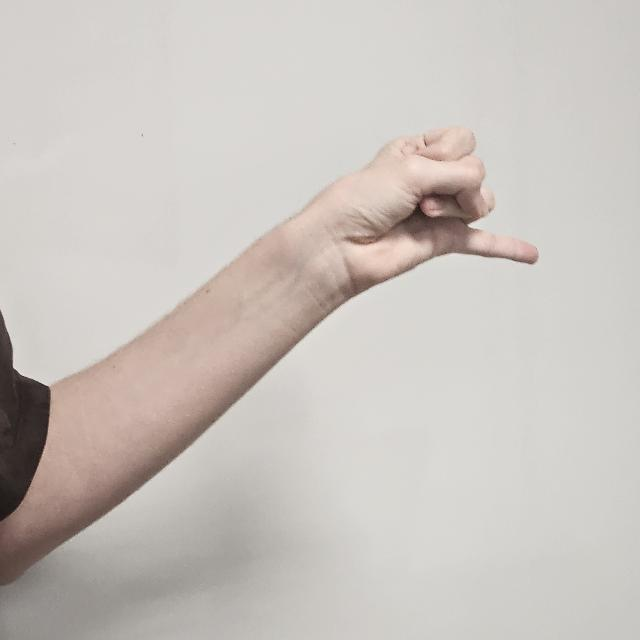Esquerda: (298, 116, 544, 304)
